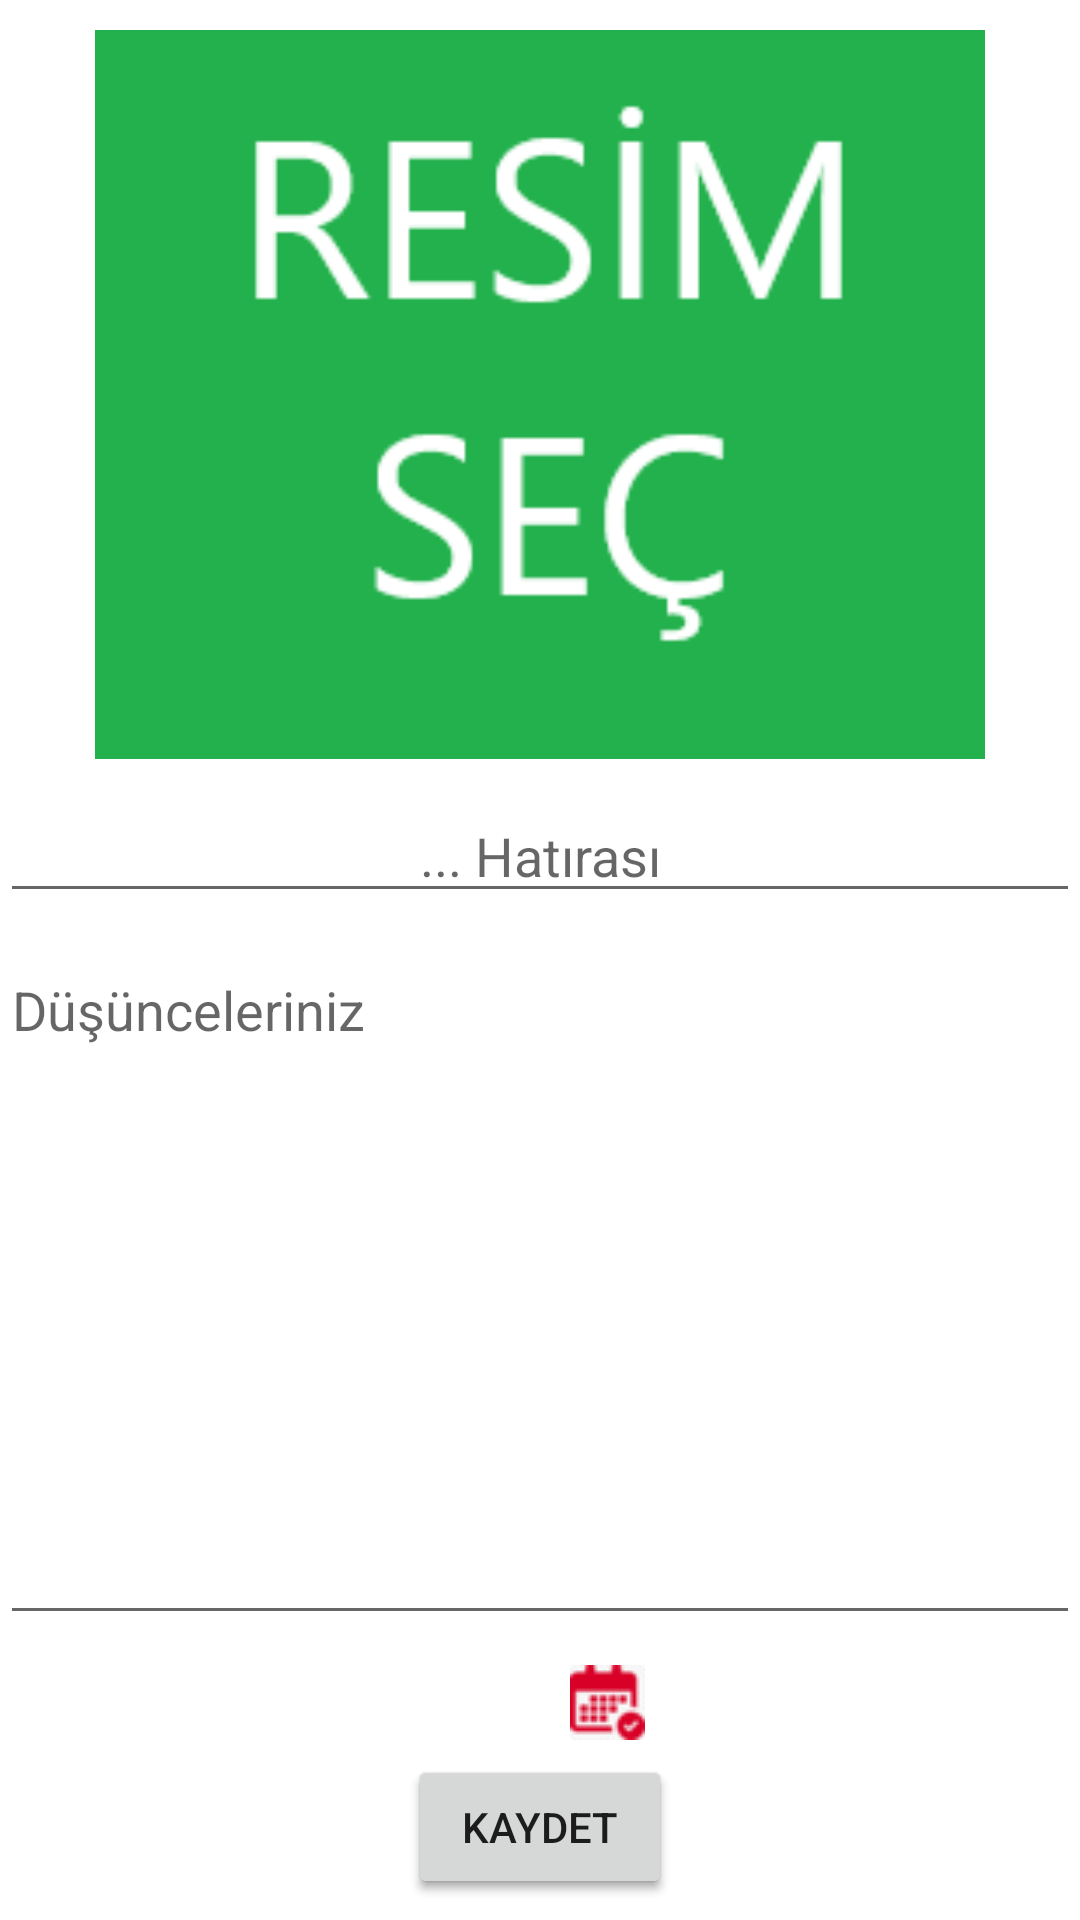

Icons on this 1080x1920 Android screen, each with its box as (x1, y1, x2, y2):
date: (570, 1665, 645, 1740)
